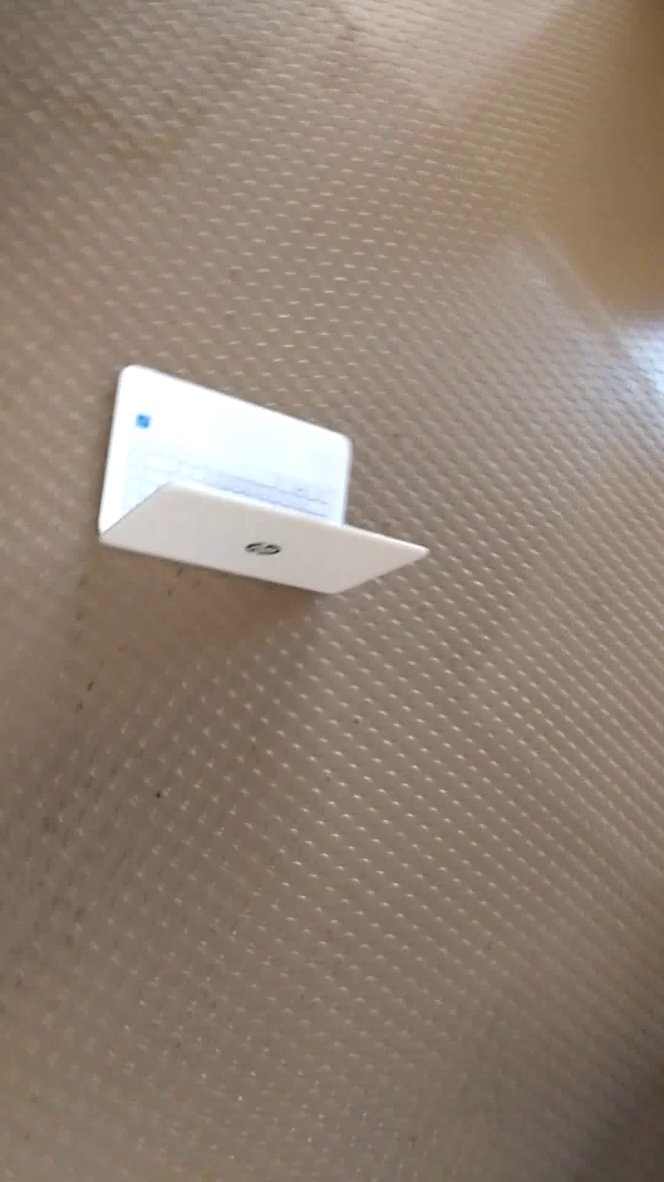laptop: (73, 346, 437, 606)
